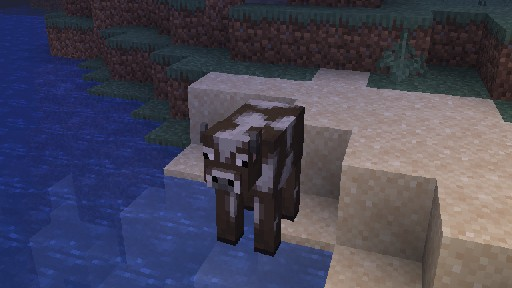cow: (199, 98, 305, 256)
